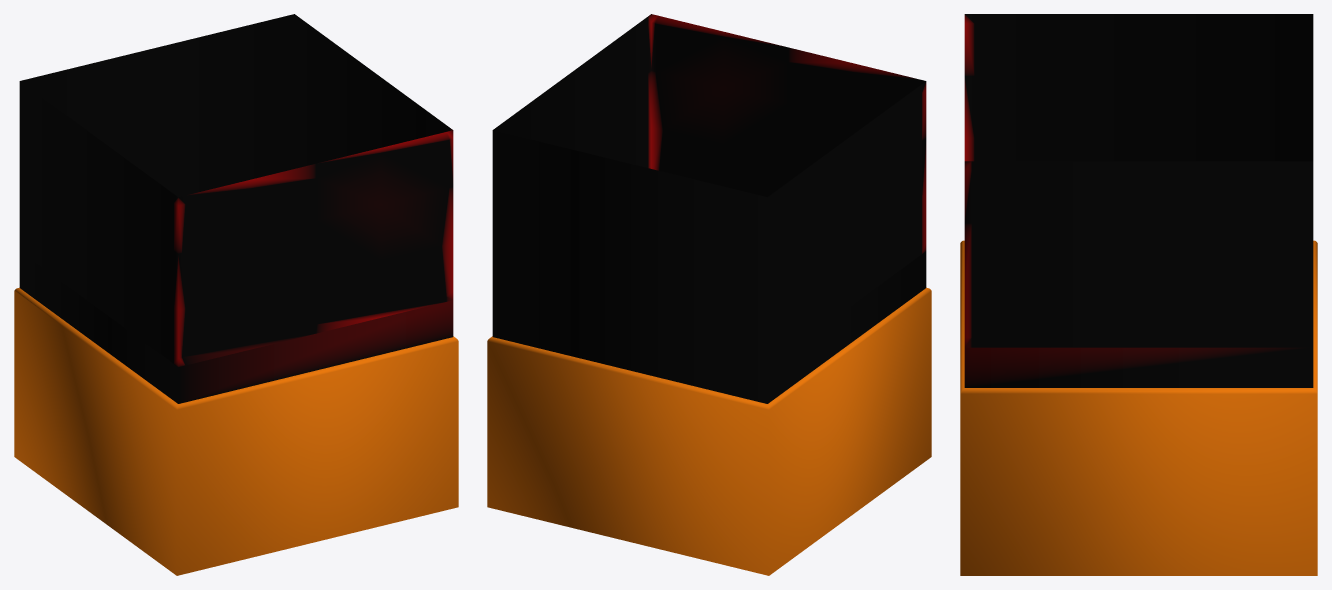
Rendered from House4_collisionSetup.fbx.
The picture shows the model from 3 angles, left to right: view 1: azimuth 30°, elevation 25°; view 2: azimuth 150°, elevation 25°; view 3: azimuth 270°, elevation 25°; orthographic projection. The views are drawn at different scales.
Visible parts, largest first — view 1: collisionCube.009, collisionConvex.203; view 2: collisionCube.009, collisionConvex.203; view 3: collisionCube.009, collisionConvex.203.
Part boxes in pixels (bbox=[...]): collisionCube.009: bbox=[19, 14, 453, 403]; collisionConvex.203: bbox=[14, 287, 458, 575]; collisionCube.009: bbox=[492, 14, 926, 403]; collisionConvex.203: bbox=[487, 287, 931, 575]; collisionCube.009: bbox=[964, 14, 1313, 387]; collisionConvex.203: bbox=[960, 240, 1317, 575].
Bounding box in the file's own units: 820 × 1046 × 820.
